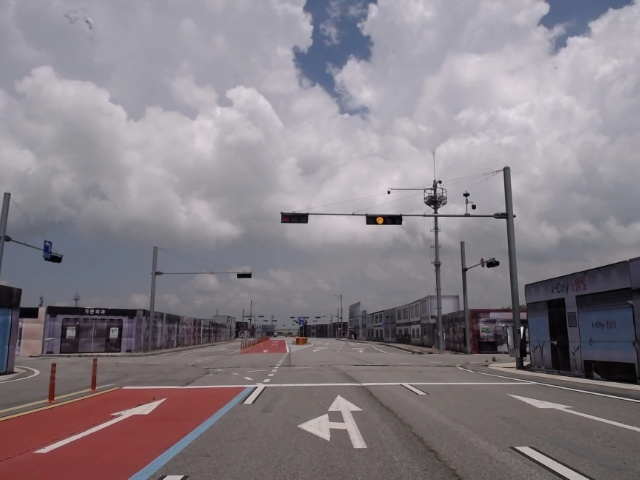orange_4: (366, 214, 405, 225)
